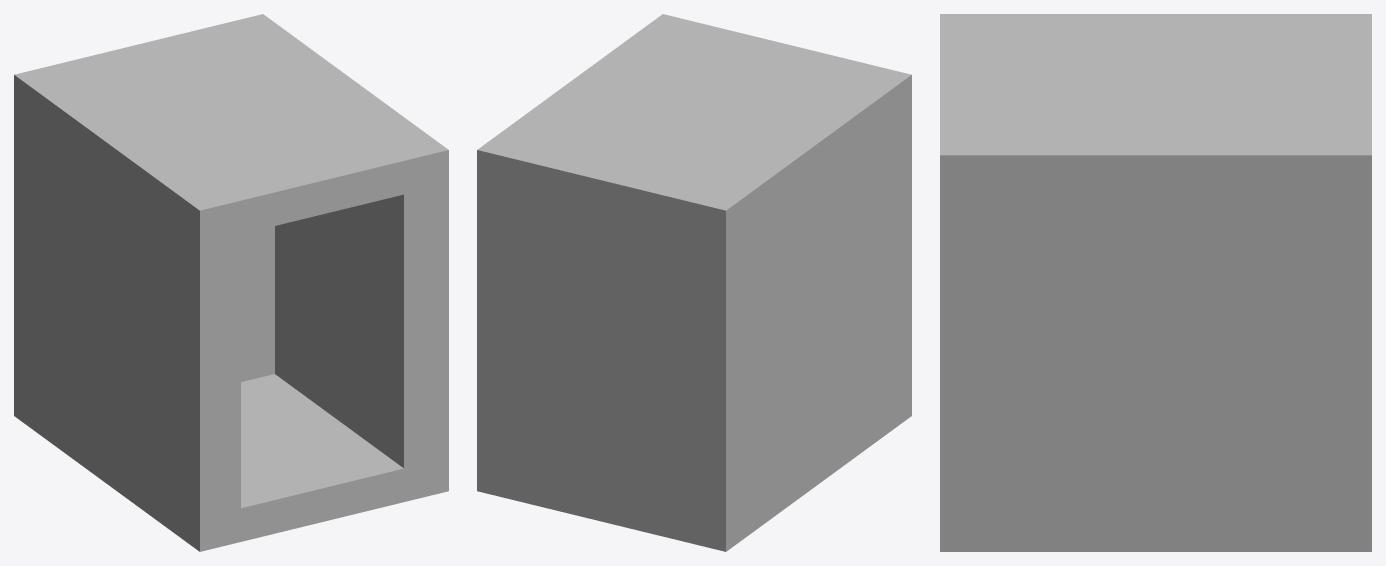
File: Itr_Desk_Cabinet_Body_06.FBX
3 views of the same model, side by side, from view 1: azimuth 30°, elevation 25°; view 2: azimuth 150°, elevation 25°; view 3: azimuth 270°, elevation 25° (orthographic). The views are drawn at different scales.
Parts seen in each view (by area): view 1: Itr_Desk_Cabinet_Body_06; view 2: Itr_Desk_Cabinet_Body_06; view 3: Itr_Desk_Cabinet_Body_06.
Boxes of the visible parts, bbox=[...] form: Itr_Desk_Cabinet_Body_06: bbox=[14, 14, 448, 551]; Itr_Desk_Cabinet_Body_06: bbox=[477, 14, 911, 551]; Itr_Desk_Cabinet_Body_06: bbox=[940, 14, 1371, 551].
Bounding box in the file's own units: 18.22 × 23.87 × 23.55.
